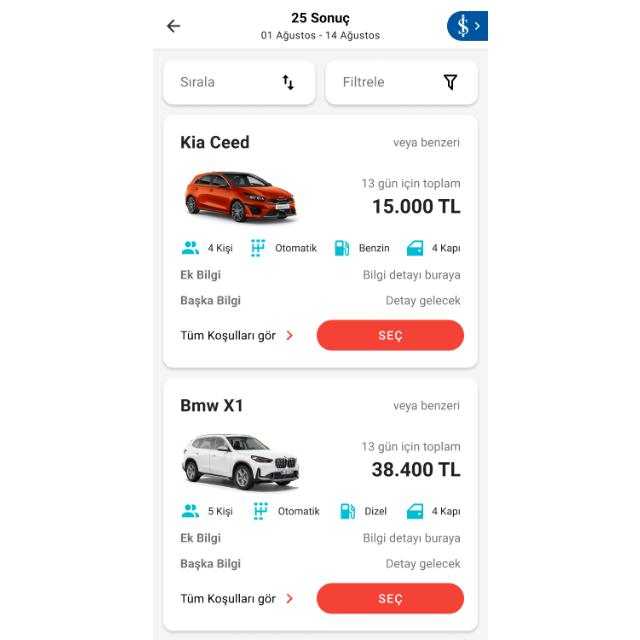QLabel: (369, 458, 461, 479), (372, 197, 462, 217), (178, 328, 276, 344), (178, 592, 276, 608), (363, 268, 461, 284), (258, 30, 380, 42), (360, 177, 462, 190), (361, 441, 462, 454), (178, 134, 250, 152), (178, 396, 244, 414), (362, 532, 461, 544), (383, 294, 462, 308), (382, 558, 462, 570), (288, 12, 352, 26), (389, 400, 461, 412), (390, 137, 460, 149), (177, 295, 241, 307), (178, 558, 242, 570), (178, 532, 222, 544), (180, 270, 222, 282), (277, 506, 321, 516), (376, 330, 404, 344), (274, 244, 318, 252), (431, 243, 461, 254), (429, 507, 461, 517), (206, 506, 232, 518), (378, 593, 402, 605), (363, 507, 387, 518), (207, 243, 233, 253), (358, 244, 390, 252)
VAppBar: (152, 1, 488, 52)
VBtn: (316, 321, 468, 352), (316, 582, 462, 614)
VCard: (160, 112, 480, 370), (161, 376, 479, 634)
VIcon: (180, 502, 200, 520), (250, 502, 268, 522), (406, 502, 424, 522), (406, 238, 424, 258), (332, 240, 352, 258), (250, 238, 266, 258), (339, 503, 356, 521), (165, 19, 179, 35), (181, 242, 199, 254), (286, 330, 292, 340), (285, 593, 291, 603)
VImg: (175, 430, 303, 494), (177, 167, 305, 230), (447, 10, 488, 42)
VTextField: (162, 58, 316, 105), (324, 61, 478, 108)
